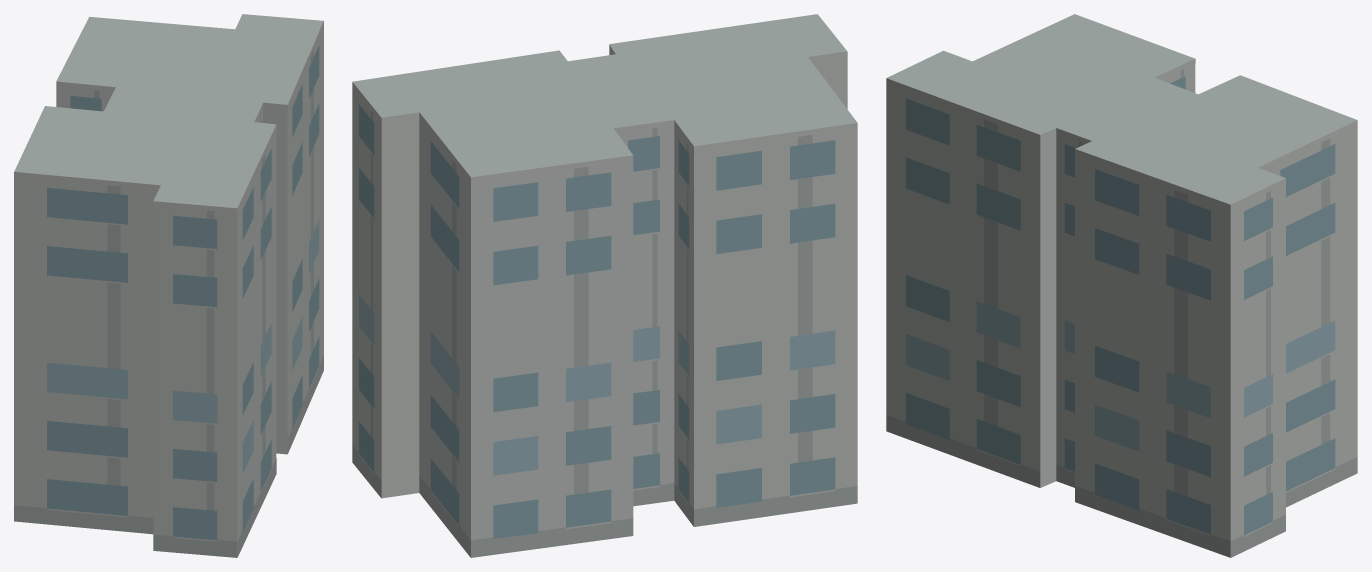
File: survey-upis-32523857.glb
The picture shows the model from 3 angles, left to right: view 1: azimuth 30°, elevation 25°; view 2: azimuth 150°, elevation 25°; view 3: azimuth 270°, elevation 25°; orthographic projection. The views are drawn at different scales.
Visible parts, largest first — view 1: survey-upis-32523857.tmp; view 2: survey-upis-32523857.tmp; view 3: survey-upis-32523857.tmp.
Boxes of the visible parts, x1,y1,x2,y2 form: survey-upis-32523857.tmp: [14, 14, 323, 557]; survey-upis-32523857.tmp: [352, 14, 857, 557]; survey-upis-32523857.tmp: [886, 14, 1357, 557].
Size of the model in its own units: 19.35 by 16.7 by 20.21.
